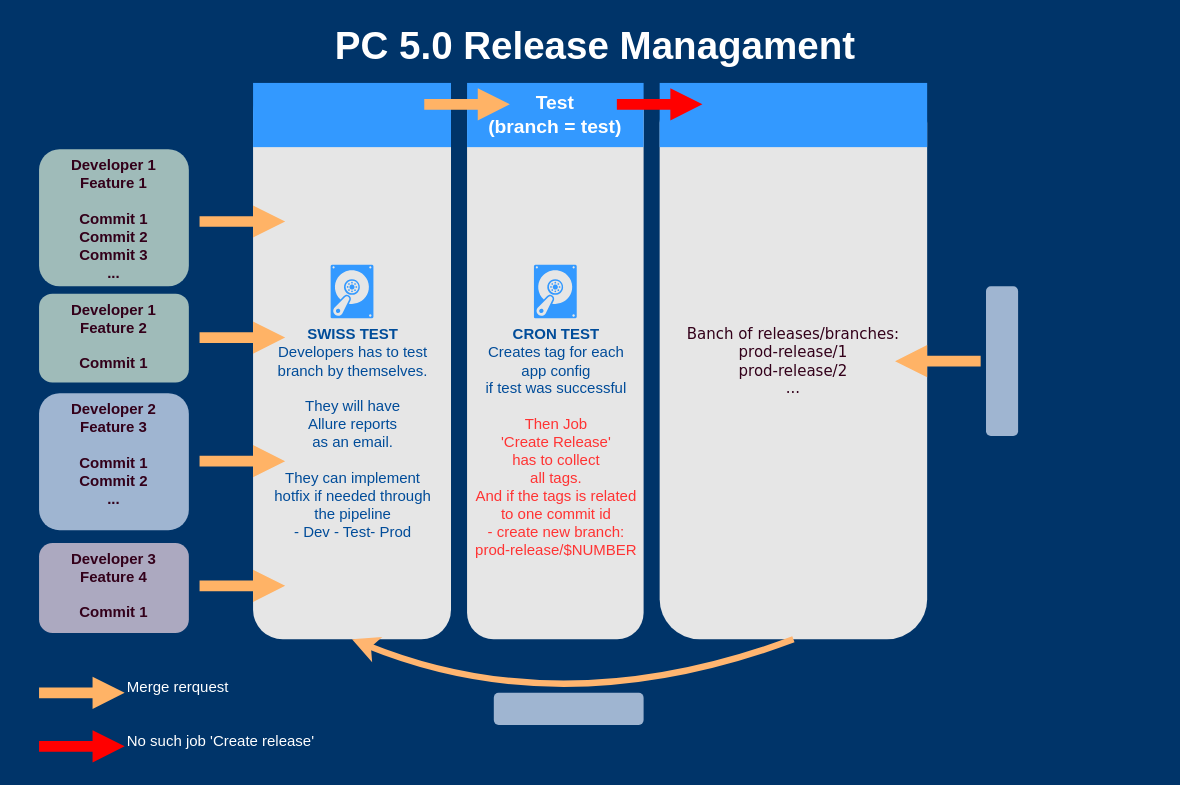
This 1180x785 diagram has some shape labels left out. Each missing label, with the centre of its shape:
After hotfix: [568,708]
Dev (branch = master): [351,114]
Hotfix: [1001,360]
Prod (branches = prod/release/*): [793,114]
